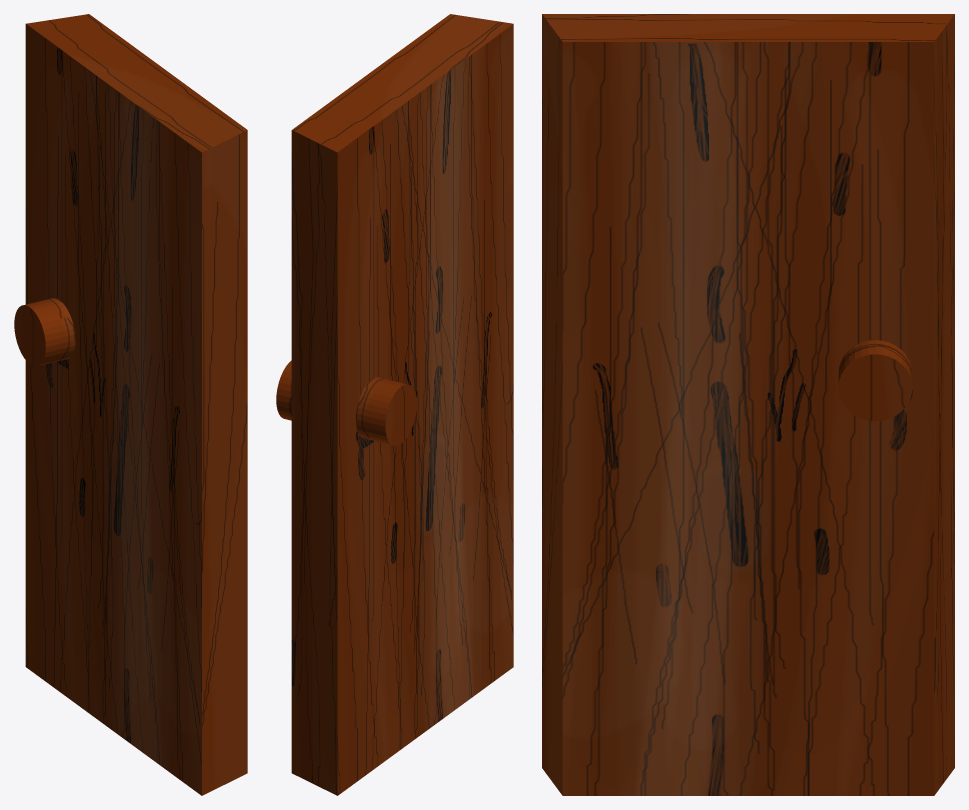
File: Door.glb
3 views of the same model, side by side, from view 1: azimuth 30°, elevation 25°; view 2: azimuth 150°, elevation 25°; view 3: azimuth 270°, elevation 25° (orthographic). The views are drawn at different scales.
Parts seen in each view (by area): view 1: baked.003; view 2: baked.003; view 3: baked.003.
Part boxes in pixels (left/top/right/bottom): baked.003: left=14, top=14, right=247, bottom=795; baked.003: left=276, top=14, right=513, bottom=795; baked.003: left=542, top=14, right=954, bottom=795.
Bounding box in the file's own units: 0.3998 × 2.26 × 1.12.
Materials: 1 (1 with a texture image).
